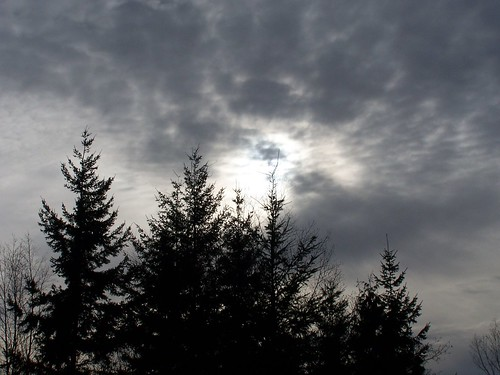sky: (1, 1, 500, 227)
vegetation: (45, 162, 420, 371)
